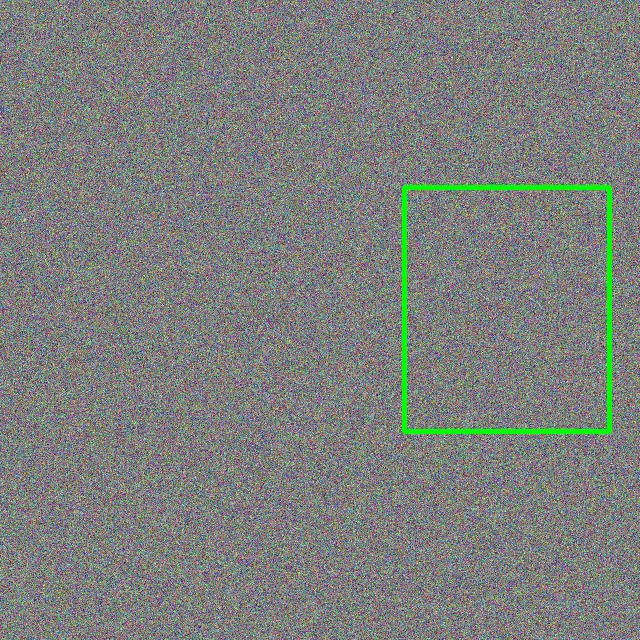base: (404, 187, 609, 431)
